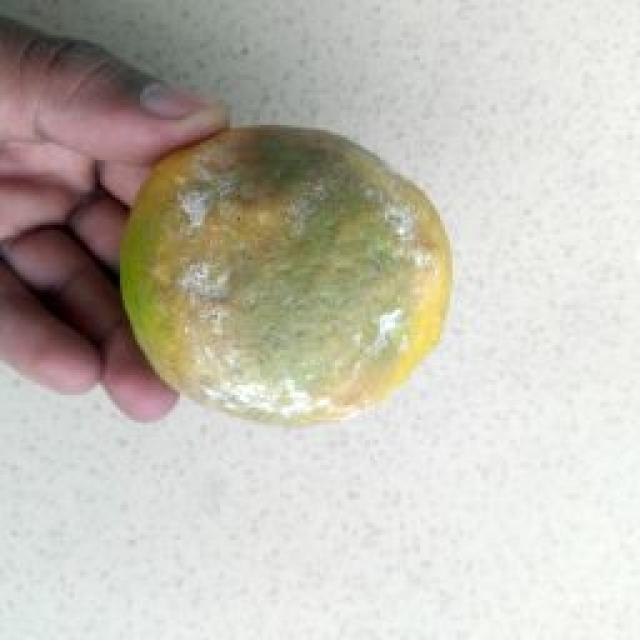Bad_Orange: (121, 126, 451, 423)
